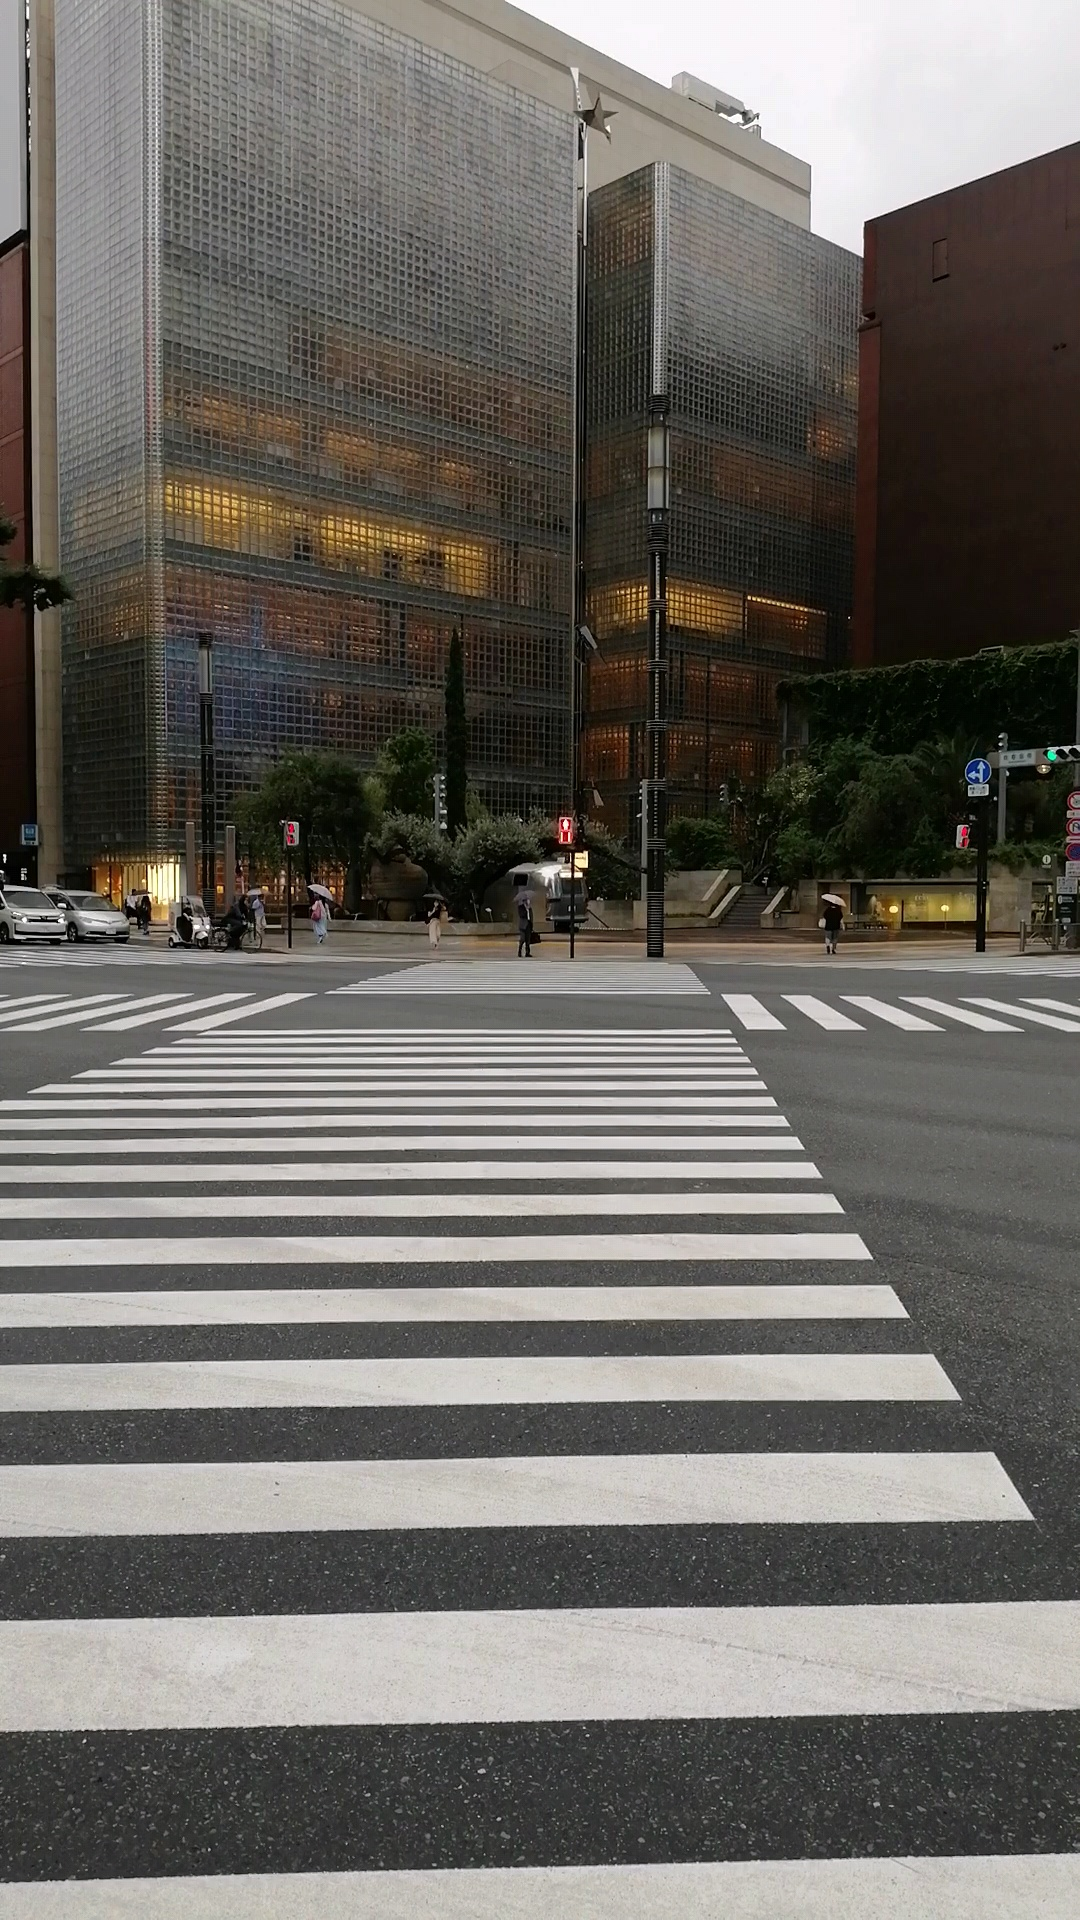red: (555, 814, 572, 847), (284, 818, 298, 849), (955, 820, 969, 852)
